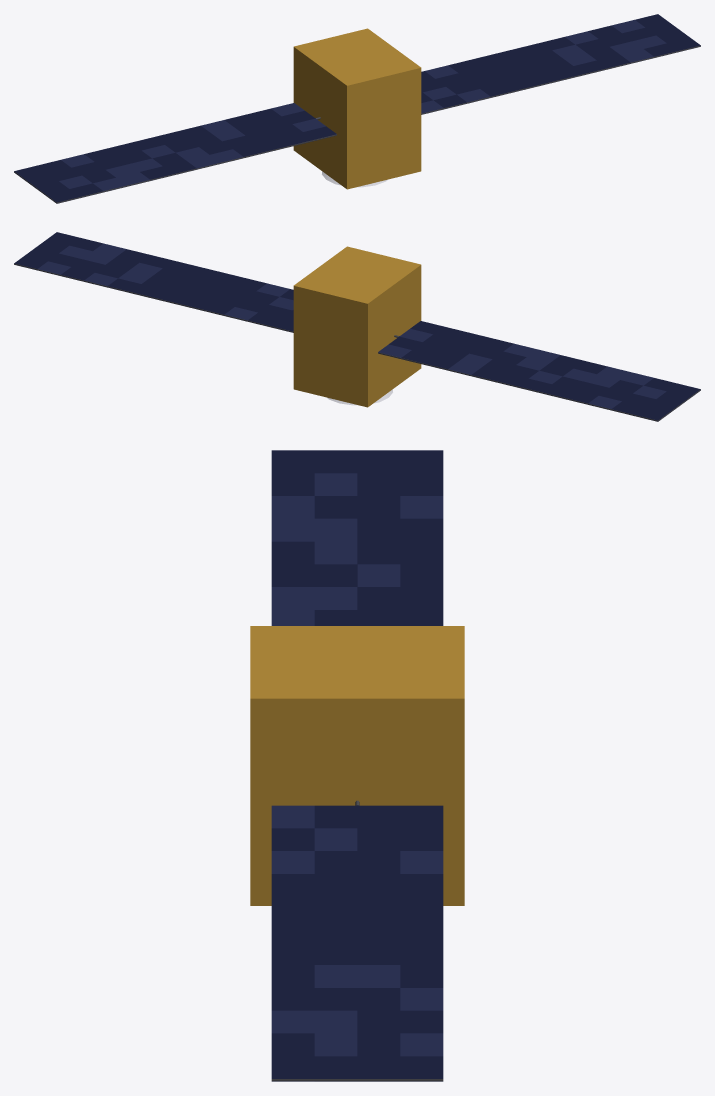
Rendered from gen-box-xl-b.obj.
3 renders of one model, top to bottom at view 1: azimuth 30°, elevation 25°; view 2: azimuth 150°, elevation 25°; view 3: azimuth 270°, elevation 25°, orthographic. The views are drawn at different scales.
Visible parts, largest first — view 1: gen-box-xl-b; view 2: gen-box-xl-b; view 3: gen-box-xl-b.
Boxes of the visible parts, box(x1,y1,x2,y2) form: gen-box-xl-b: box(14, 14, 700, 203); gen-box-xl-b: box(14, 232, 700, 421); gen-box-xl-b: box(250, 450, 464, 1081).
Size of the model in its own units: 20.8 by 3.76 by 3.
